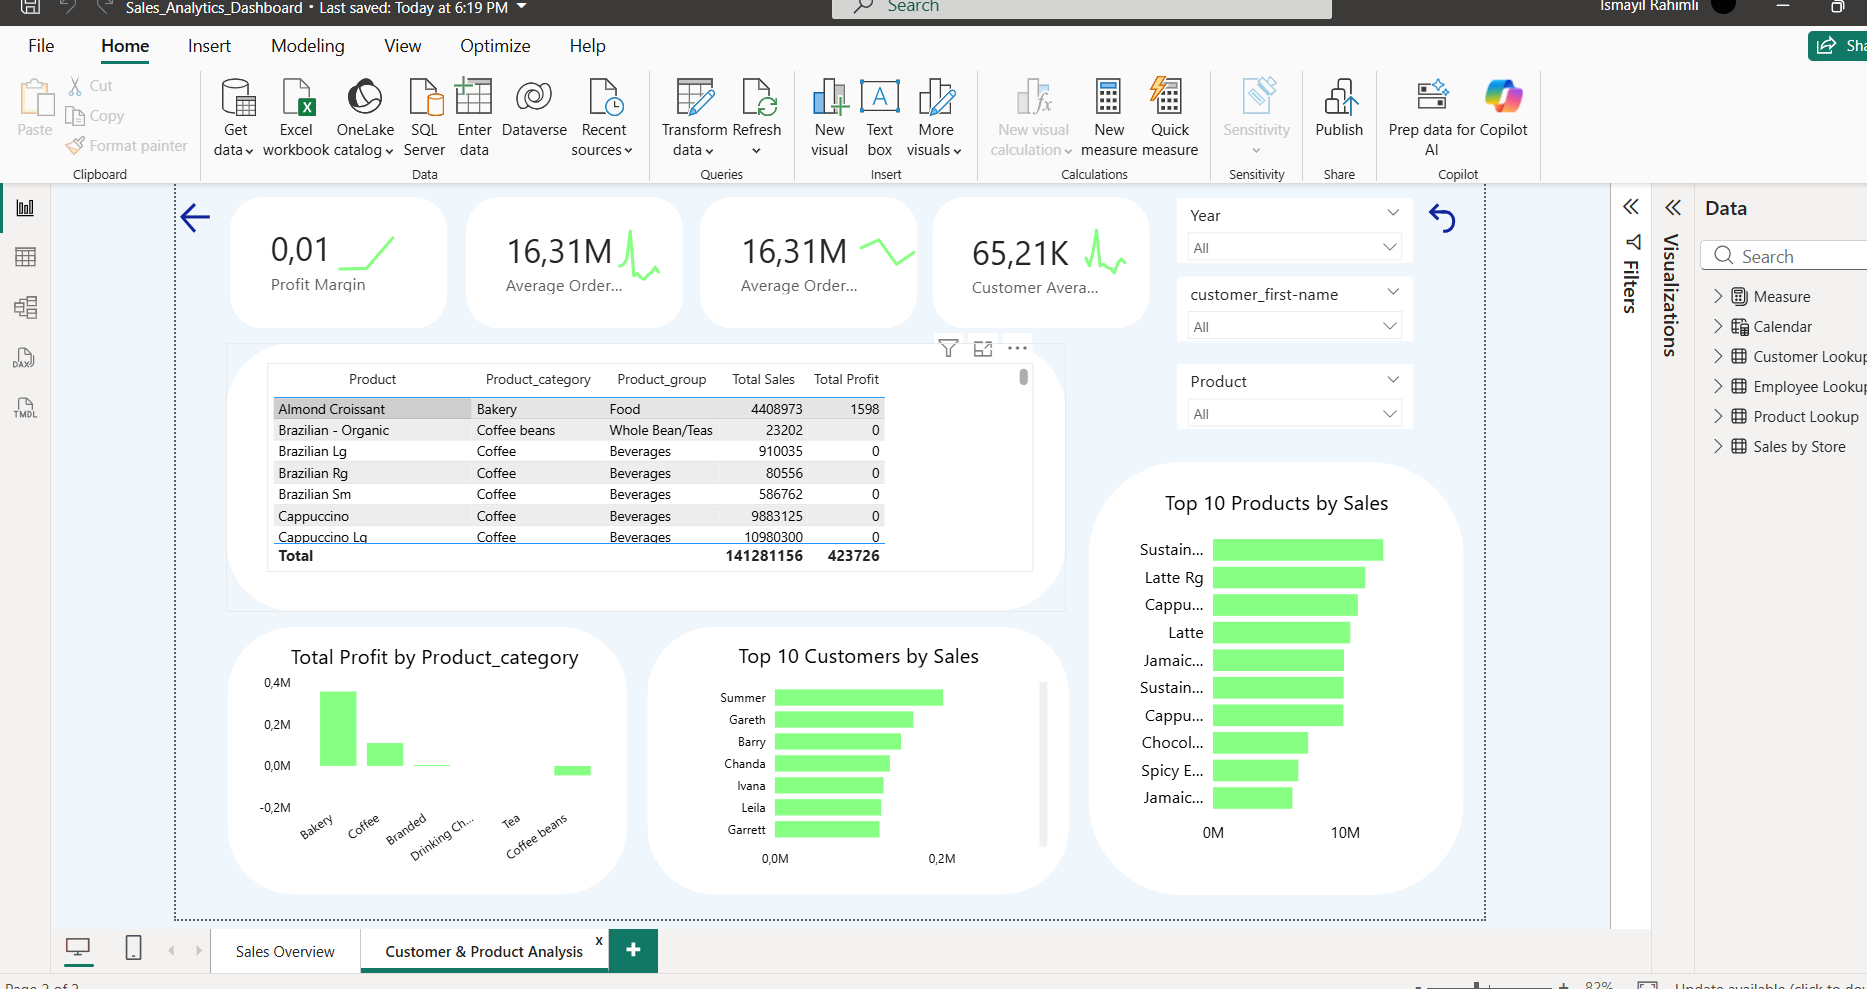

The dashboard page shown, as its layout file describes it:
{"tool":"powerbi","page":{"name":"Customer & Product Analysis","canvas":[1280,720],"ordinal":1},"visuals":[{"type":"group","id":"g1","title":"Group 4","box":[52.9,13.2,900,129.4],"z":0},{"type":"shape","box":[740.4,13.2,212.7,129],"z":0,"group":"g1"},{"type":"shape","box":[50.6,434.2,391.1,262],"z":0,"group":"g5"},{"type":"group","id":"g2","title":"Group 5","box":[979.7,15.2,230.4,225.3],"z":1000},{"type":"slicer","fields":{"Values":["Product Lookup.product"]},"box":[979.7,177.3,230.4,63.2],"z":1000,"group":"g2"},{"type":"columnChart","fields":{"Category":["Product Lookup.product_category"],"Y":["Measure.Total Profit"]},"box":[75.8,448.8,354.4,230.3],"z":1000,"group":"g5"},{"type":"shape","box":[512.6,13.2,212.7,129],"z":2000,"group":"g1"},{"type":"actionButton","box":[0,14.7,51,39],"z":2000},{"type":"shape","box":[283.4,13.2,212.7,129],"z":3000,"group":"g1"},{"type":"group","id":"g3","title":"Group 2","box":[892.4,272.2,367.1,424.1],"z":3000},{"type":"shape","box":[52.9,13.2,212.7,129],"z":4000,"group":"g1"},{"type":"group","id":"g4","title":"Group 2","box":[460.8,434.2,412.7,262],"z":4000},{"type":"slicer","fields":{"Values":["Calendar.Year"]},"box":[979.7,15.2,230.4,63.2],"z":5000,"group":"g2"},{"type":"shape","box":[49.4,157,821.5,262],"z":5000,"group":"g6"},{"type":"shape","box":[892.4,272.2,367.1,424.1],"z":5000,"group":"g3"},{"type":"group","id":"g5","title":"Group 1","box":[50.6,434.2,391.1,262],"z":5000},{"type":"shape","box":[460.8,434.2,412.7,262],"z":5000,"group":"g4"},{"type":"barChart","title":"Top 10 Products by Sales","fields":{"Category":["Product Lookup.product"],"Y":["Measure.Total Sales"]},"box":[925.9,297.8,302.5,358.2],"z":5012,"group":"g3"},{"type":"barChart","title":"Top 10 Customers by Sales","fields":{"Category":["Customer Lookup.customer_first-name"],"Y":["Measure.Total Sales"]},"box":[477.6,447.9,379.7,231.6],"z":5012,"group":"g4"},{"type":"slicer","fields":{"Values":["Customer Lookup.customer_first-name"]},"box":[979.7,92.1,230.4,63.2],"z":6000,"group":"g2"},{"type":"group","id":"g6","title":"Group 3","box":[49.4,157,821.5,262],"z":6000},{"type":"actionButton","box":[1219.4,15.3,51,39],"z":7000},{"type":"cardVisual","fields":{"Data":["Measure.Customer Average Sales"]},"box":[750.3,29.3,190.8,99],"z":8000,"group":"g1"},{"type":"cardVisual","fields":{"Data":["Measure.Average Order Value"]},"box":[524.1,26.8,190.8,99],"z":9000,"group":"g1"},{"type":"cardVisual","fields":{"Data":["Measure.Average Order Value"]},"box":[294.2,26.8,190.8,99],"z":10000,"group":"g1"},{"type":"cardVisual","fields":{"Data":["Measure.Profit Margin"]},"box":[64.4,26.2,189.5,97.8],"z":11000,"group":"g1"},{"type":"lineChart","fields":{"Y":["Measure.Customer Average Sales"],"Category":["Calendar.Month Number"]},"box":[871.6,28.3,81.9,73.4],"z":12000,"group":"g1"},{"type":"lineChart","fields":{"Y":["Measure.Average Order Value"],"Category":["Calendar.Quarter"]},"box":[655.2,28,81.9,73.4],"z":13000,"group":"g1"},{"type":"lineChart","fields":{"Category":["Calendar.Month Number"],"Y":["Measure.Average Order Value"]},"box":[416.6,28.3,81.9,73.4],"z":14000,"group":"g1"},{"type":"lineChart","fields":{"Y":["Measure.Profit Margin"],"Category":["Calendar.Year"]},"box":[146.2,31.7,81.9,63.6],"z":15000,"group":"g1"},{"type":"tableEx","fields":{"Values":["Product Lookup.product","Product Lookup.product_category","Product Lookup.product_group","Measure.Total Sales","Measure.Total Profit"]},"box":[90,177.2,749.5,203.8],"z":19004,"group":"g6"}]}

Visuals, with their boxes on the page's 1280x720 design canvas (x1, y1, x2, y2). These are canvas units, not pixel positions in the 1867x989 screenshot, which may show the page scaled, cropped or inside an application window:
"Group 4" group: left=53, top=13, right=953, bottom=143
shape: left=740, top=13, right=953, bottom=142
shape: left=51, top=434, right=442, bottom=696
"Group 5" group: left=980, top=15, right=1210, bottom=240
slicer - Product Lookup.product: left=980, top=177, right=1210, bottom=240
columnChart - Product Lookup.product_category x Measure.Total Profit: left=76, top=449, right=430, bottom=679
shape: left=513, top=13, right=725, bottom=142
actionButton: left=0, top=15, right=51, bottom=54
shape: left=283, top=13, right=496, bottom=142
"Group 2" group: left=892, top=272, right=1260, bottom=696
shape: left=53, top=13, right=266, bottom=142
"Group 2" group: left=461, top=434, right=874, bottom=696
slicer - Calendar.Year: left=980, top=15, right=1210, bottom=78
shape: left=49, top=157, right=871, bottom=419
shape: left=892, top=272, right=1260, bottom=696
"Group 1" group: left=51, top=434, right=442, bottom=696
shape: left=461, top=434, right=874, bottom=696
"Top 10 Products by Sales" barChart: left=926, top=298, right=1228, bottom=656
"Top 10 Customers by Sales" barChart: left=478, top=448, right=857, bottom=680
slicer - Customer Lookup.customer_first-name: left=980, top=92, right=1210, bottom=155
"Group 3" group: left=49, top=157, right=871, bottom=419
actionButton: left=1219, top=15, right=1270, bottom=54
cardVisual - Measure.Customer Average Sales: left=750, top=29, right=941, bottom=128
cardVisual - Measure.Average Order Value: left=524, top=27, right=715, bottom=126
cardVisual - Measure.Average Order Value: left=294, top=27, right=485, bottom=126
cardVisual - Measure.Profit Margin: left=64, top=26, right=254, bottom=124
lineChart - Measure.Customer Average Sales x Calendar.Month Number: left=872, top=28, right=954, bottom=102
lineChart - Measure.Average Order Value x Calendar.Quarter: left=655, top=28, right=737, bottom=101
lineChart - Calendar.Month Number x Measure.Average Order Value: left=417, top=28, right=498, bottom=102
lineChart - Measure.Profit Margin x Calendar.Year: left=146, top=32, right=228, bottom=95
tableEx - Product Lookup.product x Product Lookup.product_category: left=90, top=177, right=840, bottom=381
